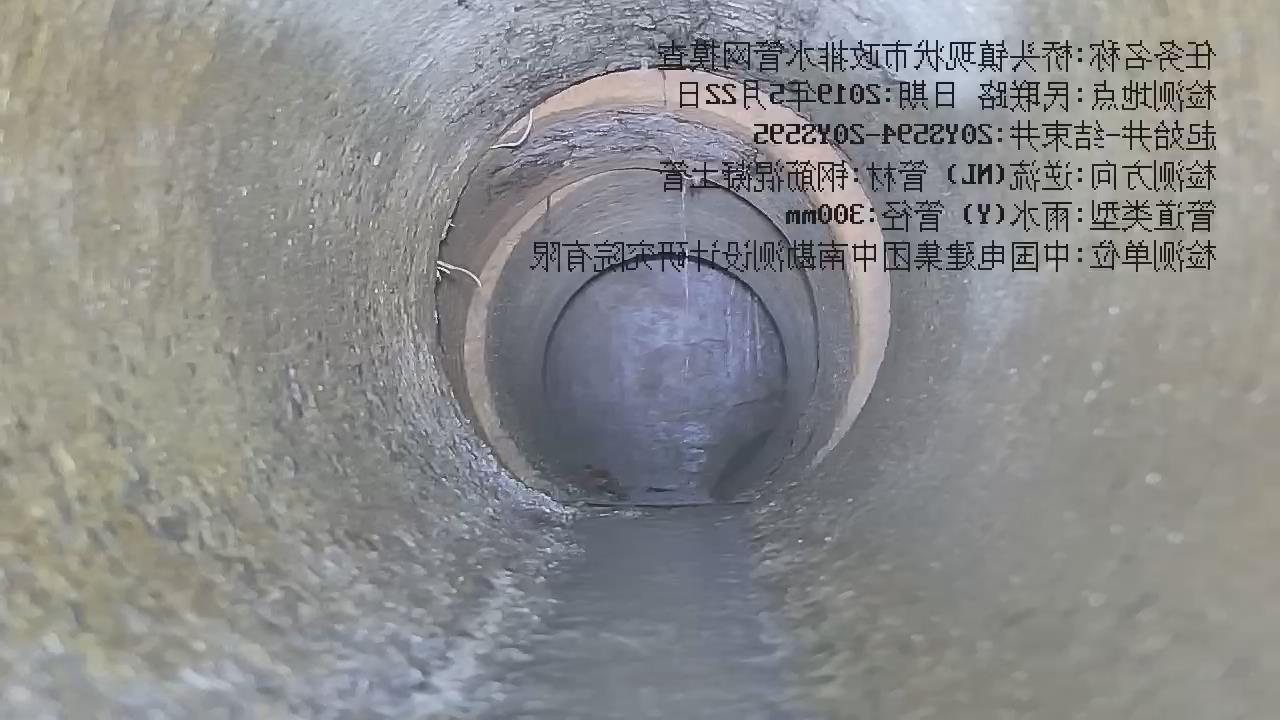CKTJ: (531, 67, 891, 460), (462, 170, 627, 482)
